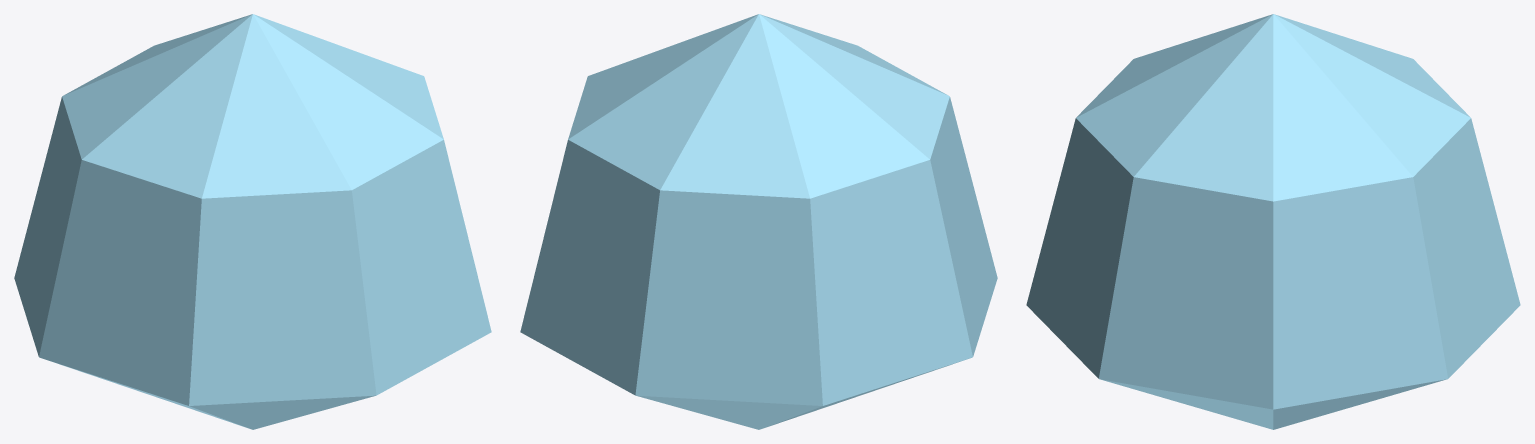
The model's file is ore-6.glb.
3 renders of one model, left to right at view 1: azimuth 30°, elevation 25°; view 2: azimuth 150°, elevation 25°; view 3: azimuth 270°, elevation 25°, orthographic.
Parts seen in each view (by area): view 1: Diamond octahedral jewel; view 2: Diamond octahedral jewel; view 3: Diamond octahedral jewel.
Boxes of the visible parts, x1,y1,x2,y2 form: Diamond octahedral jewel: (14,14,491,429); Diamond octahedral jewel: (520,14,997,429); Diamond octahedral jewel: (1026,14,1520,429).
Size of the model in its own units: 1.4 by 1.3 by 1.4.
